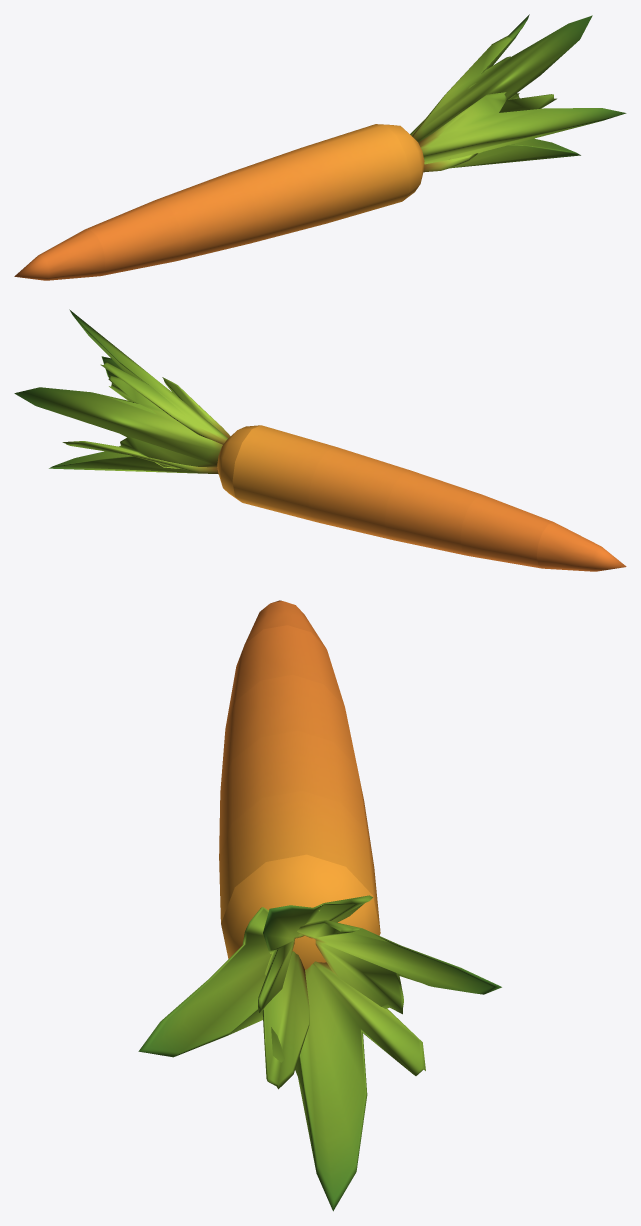
The model's file is Carrot.fbx.
3 renders of one model, top to bottom at view 1: azimuth 30°, elevation 25°; view 2: azimuth 150°, elevation 25°; view 3: azimuth 270°, elevation 25°, orthographic. The views are drawn at different scales.
Parts seen in each view (by area): view 1: Carrot; view 2: Carrot; view 3: Carrot.
Boxes of the visible parts, x1,y1,x2,y2 form: Carrot: [14, 14, 626, 280]; Carrot: [14, 309, 626, 571]; Carrot: [138, 600, 501, 1211].
Bounding box in the file's own units: 12.83 × 3.23 × 3.58.
